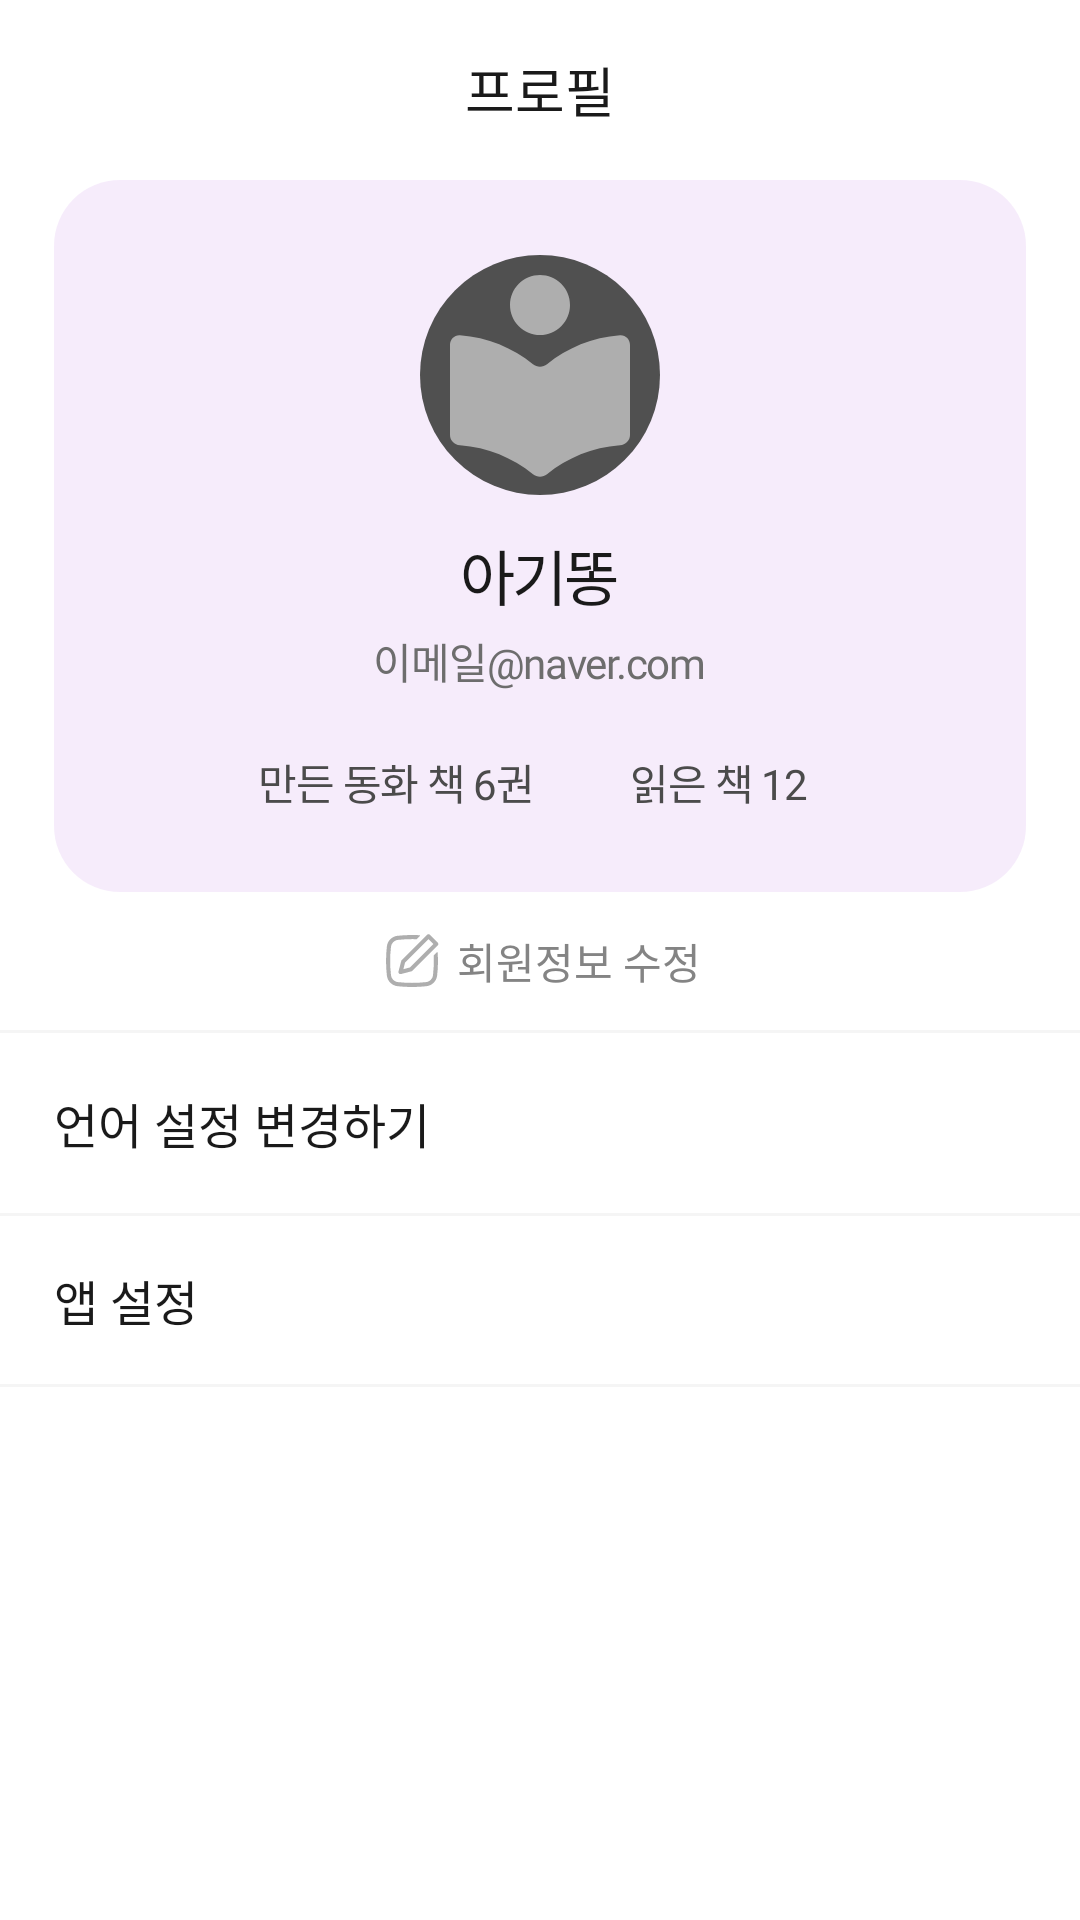

Screen size 1080px x 1920px. Icon name, then its center in pixels as (x=x, y=y):
edit profile: (x=412, y=960)
profile: (x=540, y=375)
